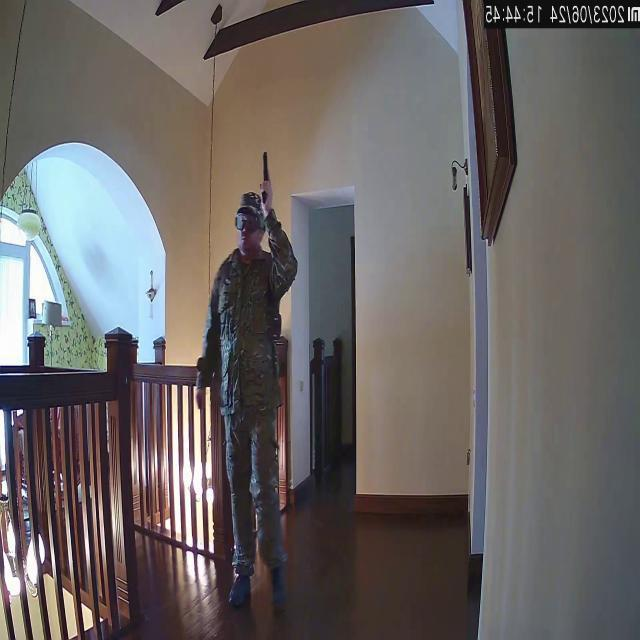gun: (201, 146, 296, 609), (258, 151, 274, 203)
